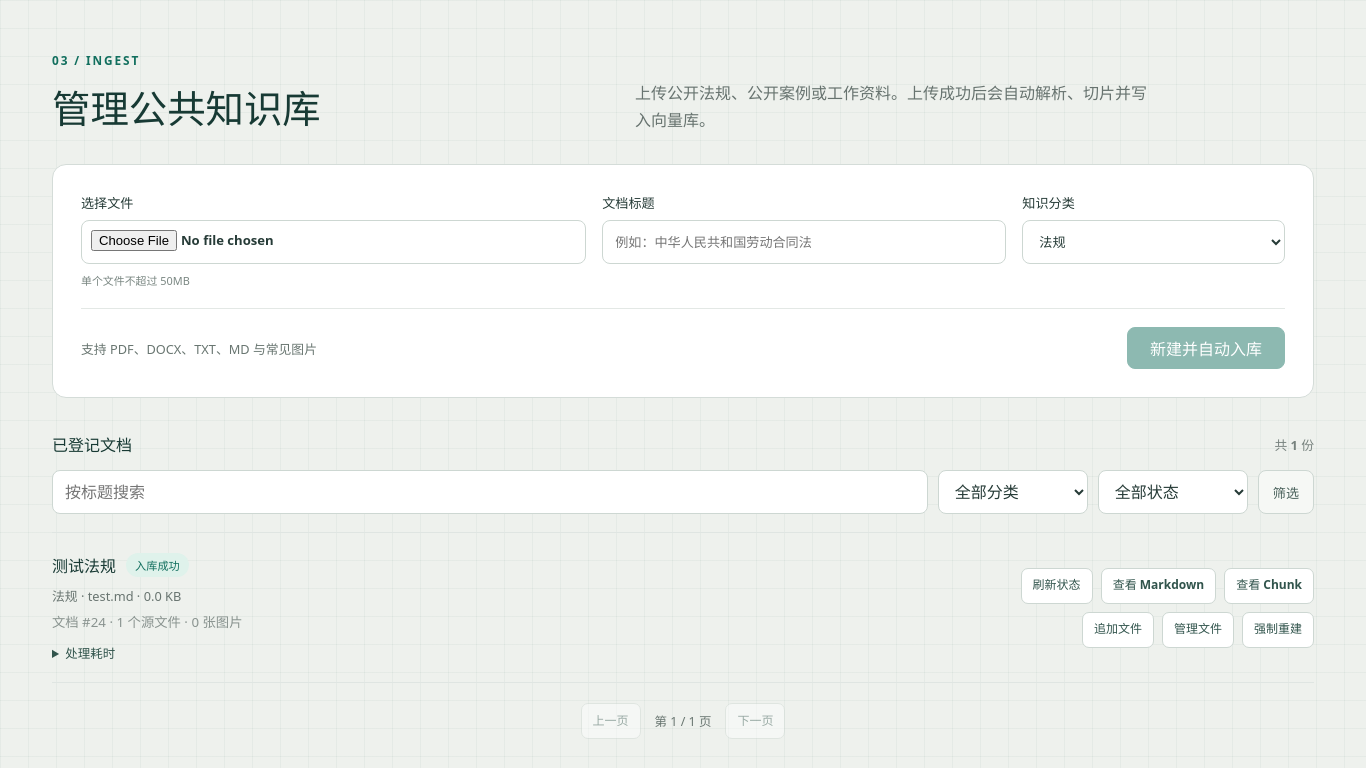
Test case: KnowledgePanel › shows processing timings and opens previews through safe new-tab links
Expected: the heading "测试法规" is shown, [52,553,116,577]
Click the heading "处理耗时": (90, 654) [65,645,115,662]
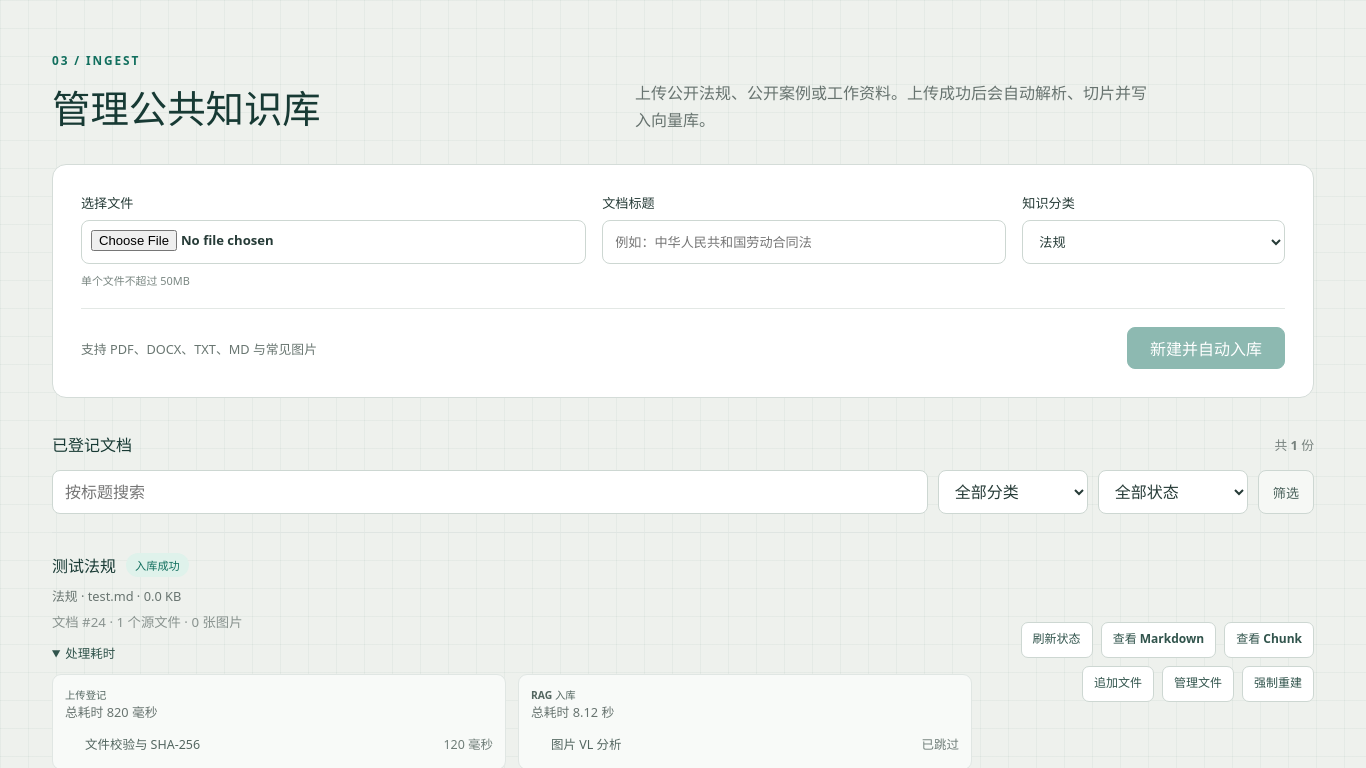
Now the text "总耗时 820 毫秒" is shown, box [65,703,158,721]
Now the text "已跳过" is shown, box [922,735,959,753]
